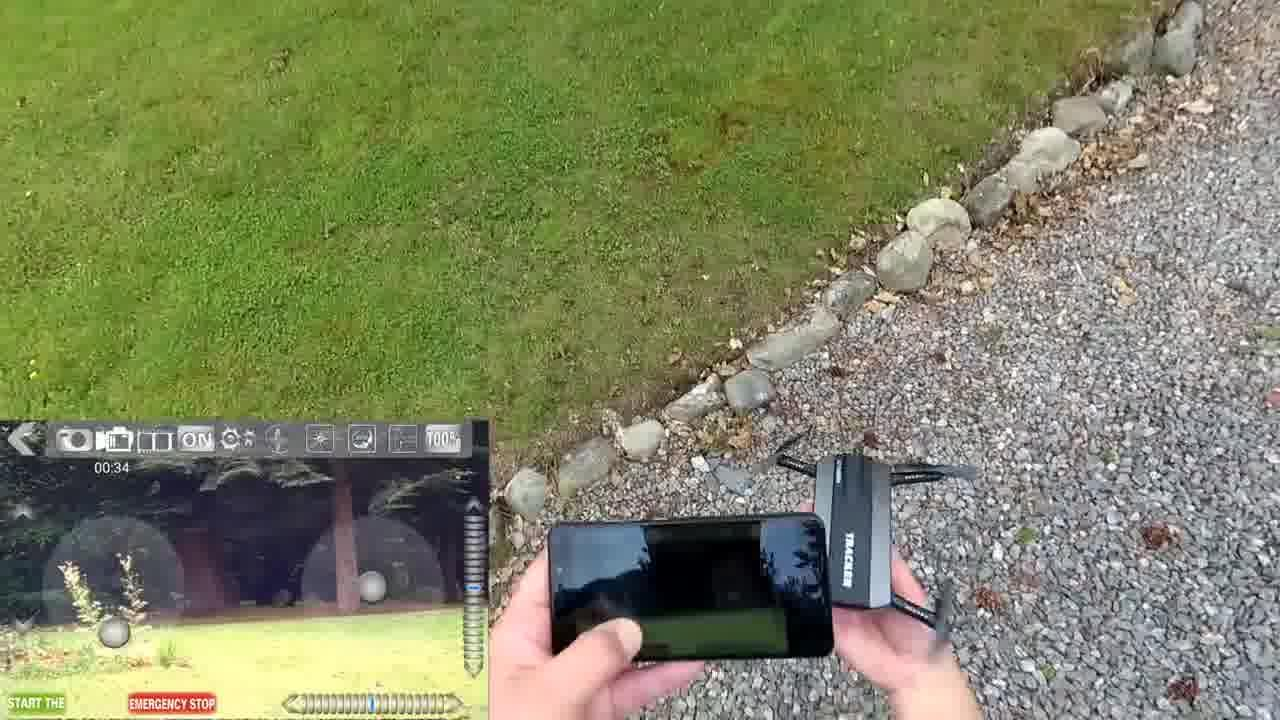Drone: (759, 440, 972, 637)
